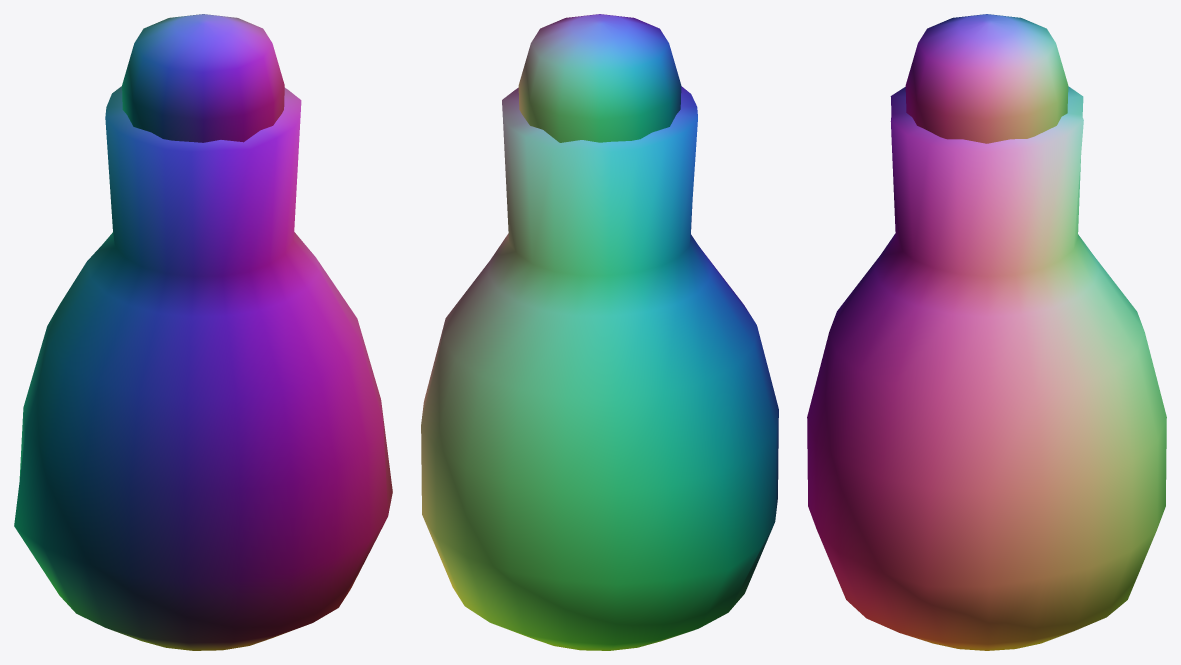
File: SM_Pickup_PotionMP_S.fbx
3 renders of one model, left to right at view 1: azimuth 30°, elevation 25°; view 2: azimuth 150°, elevation 25°; view 3: azimuth 270°, elevation 25°, orthographic.
Visible parts, largest first — view 1: SM_Pickup_PotionMP_S; view 2: SM_Pickup_PotionMP_S; view 3: SM_Pickup_PotionMP_S.
Boxes of the visible parts, x1=… form: SM_Pickup_PotionMP_S: x1=14, y1=14, x2=392, y2=650; SM_Pickup_PotionMP_S: x1=421, y1=14, x2=778, y2=650; SM_Pickup_PotionMP_S: x1=807, y1=14, x2=1166, y2=650.
Size of the model in its own units: 0.1775 by 0.311 by 0.1715.
